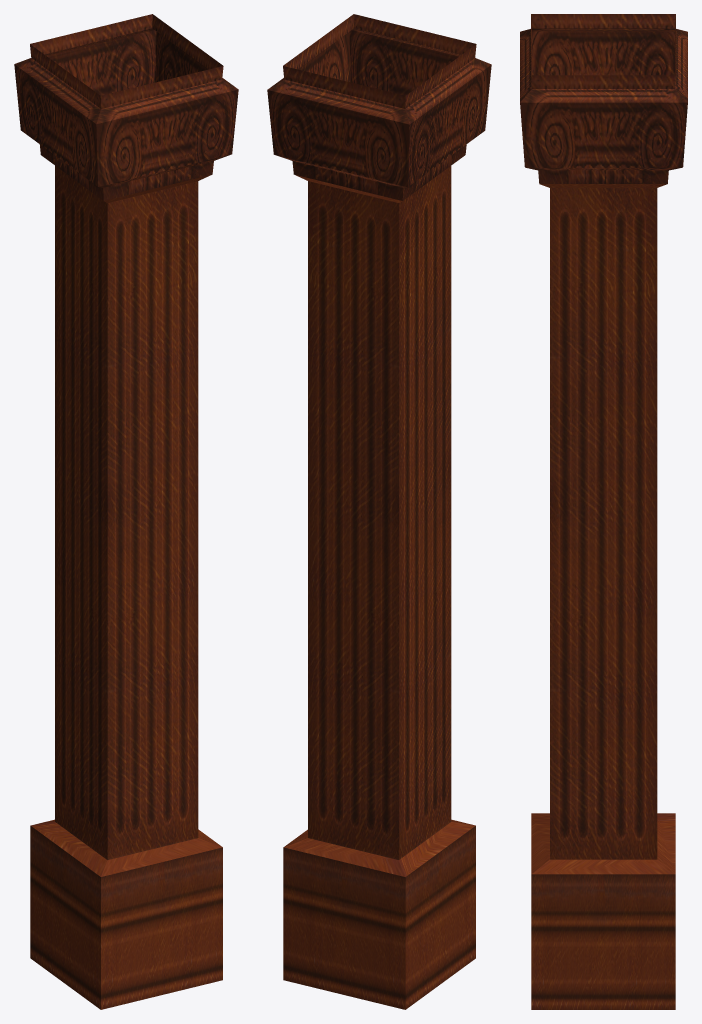
The model's file is ColumnSquare2.fbx.
3 views of the same model, side by side, from view 1: azimuth 30°, elevation 25°; view 2: azimuth 150°, elevation 25°; view 3: azimuth 270°, elevation 25° (orthographic). The views are drawn at different scales.
Visible parts, largest first — view 1: Cube.001; view 2: Cube.001; view 3: Cube.001.
Boxes of the visible parts, x1,y1,x2,y2 form: Cube.001: [14, 14, 238, 1009]; Cube.001: [267, 14, 491, 1009]; Cube.001: [520, 14, 687, 1009].
Size of the model in its own units: 45.69 by 281 by 45.69.
